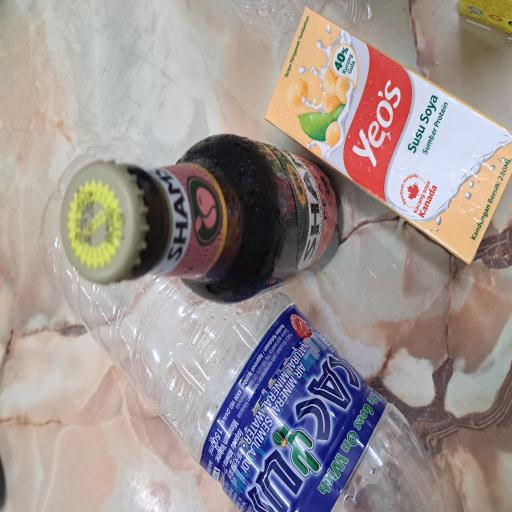drink carton: (188, 349, 377, 512)
glass bottle: (156, 85, 286, 453)
plastic bottle: (0, 48, 279, 512)
